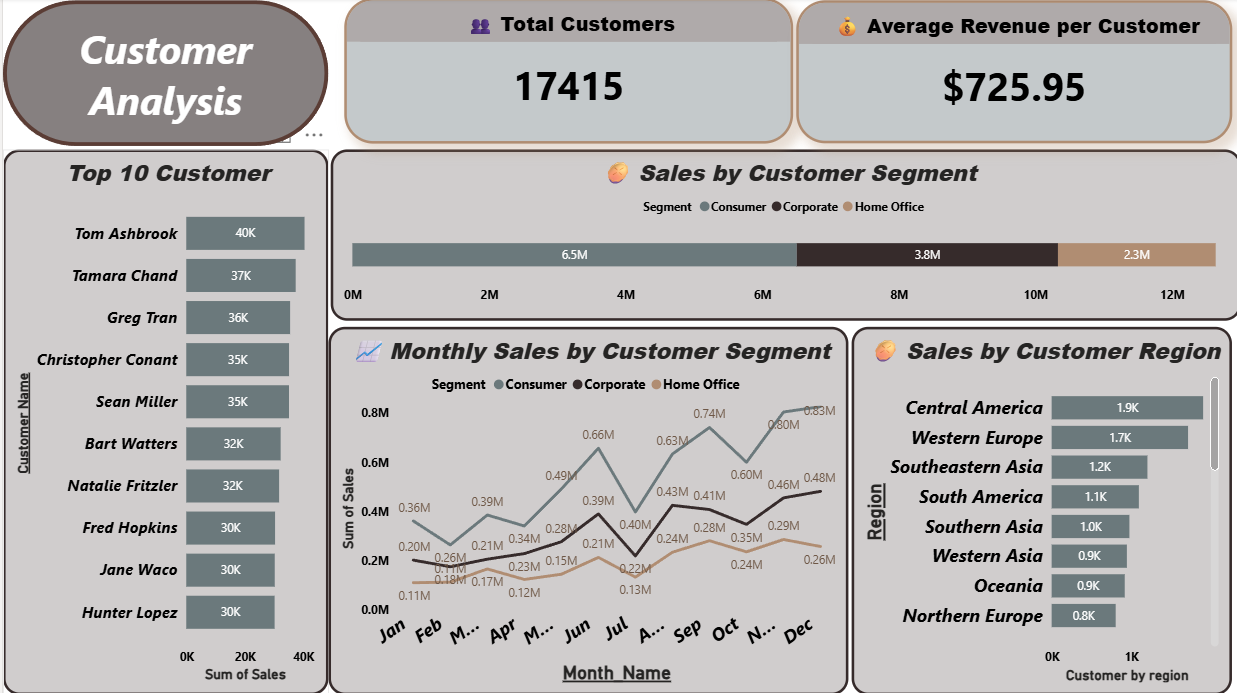

The dashboard page shown, as its layout file describes it:
{"tool":"powerbi","page":{"name":"Customer Analysis","canvas":[1280,720],"ordinal":1},"visuals":[{"type":"barChart","title":"Top 10 Customer","fields":{"Y":["Sum(Fact_Table.Sales)"],"Category":["Customer_DIM.Customer Name"]},"box":[0,156.6,336.1,563.8],"z":0},{"type":"barChart","title":"🥧 Sales by Customer Segment","fields":{"Y":["Sum(Fact_Table.Sales)"],"Series":["Customer_DIM.Segment"]},"box":[338.5,156.6,940.9,177.1],"z":1000},{"type":"card","title":"👥 Total Customers","fields":{"Values":["CountNonNull(Customer_DIM.Customer ID)"]},"box":[353,0,463.8,150.6],"z":2000},{"type":"card","title":"💰 Average Revenue per Customer","fields":{"Values":["Measures_.AVG_revenue_per_coustmer"]},"box":[819.2,2.4,450.6,148.2],"z":3000},{"type":"barChart","title":"🥧 Sales by Customer Region","fields":{"Category":["locatin_DIM.Region"],"Y":["Measures_.Customer by region"]},"box":[877,339.7,392.7,380.7],"z":4000},{"type":"lineChart","title":"📈 Monthly Sales by Customer Segment","fields":{"Series":["Customer_DIM.Segment"],"Category":["Date_DIM.Month_Name"],"Y":["Sum(Fact_Table.Sales)"]},"box":[336.1,339.3,537.3,380.7],"z":5000},{"type":"shape","box":[0,2.4,336.1,150.6],"z":6000}]}

Visuals, with their boxes in screenshot pixels (x1, y1, x2, y2), scaled from the page's 1280x720 canvas onto the 1237x693 screenshot:
"Top 10 Customer" barChart: pyautogui.locateOnScreen(0, 151, 325, 692)
"🥧 Sales by Customer Segment" barChart: pyautogui.locateOnScreen(327, 151, 1236, 321)
"👥 Total Customers" card: pyautogui.locateOnScreen(341, 0, 789, 145)
"💰 Average Revenue per Customer" card: pyautogui.locateOnScreen(792, 2, 1227, 145)
"🥧 Sales by Customer Region" barChart: pyautogui.locateOnScreen(848, 327, 1227, 692)
"📈 Monthly Sales by Customer Segment" lineChart: pyautogui.locateOnScreen(325, 327, 844, 692)
shape: pyautogui.locateOnScreen(0, 2, 325, 147)
